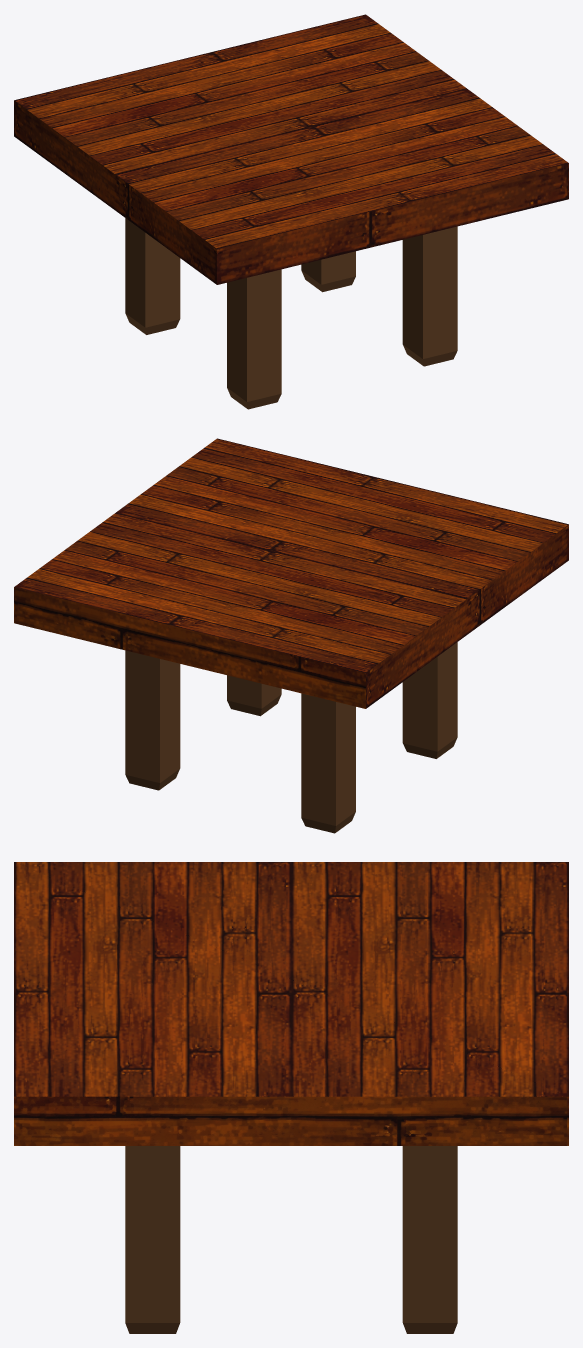
The model's file is table1.glb.
3 views of the same model, one above another, from view 1: azimuth 30°, elevation 25°; view 2: azimuth 150°, elevation 25°; view 3: azimuth 270°, elevation 25° (orthographic). The views are drawn at different scales.
Parts seen in each view (by area): view 1: Plane.001, Plane, Plane.002; view 2: Plane.001, Plane, Plane.002; view 3: Plane.001, Plane.002, Plane.
Boxes of the visible parts, box(x1,y1,x2,y2) form: Plane.001: box(14, 14, 568, 248); Plane: box(125, 218, 457, 409); Plane.002: box(14, 100, 568, 284); Plane.001: box(14, 438, 568, 672); Plane: box(125, 642, 457, 833); Plane.002: box(14, 524, 568, 708); Plane.001: box(14, 862, 568, 1096); Plane.002: box(14, 1096, 568, 1145); Plane: box(125, 1146, 457, 1333).
Size of the model in its own units: 2 by 1.14 by 2.
3 materials, 2 textured.
